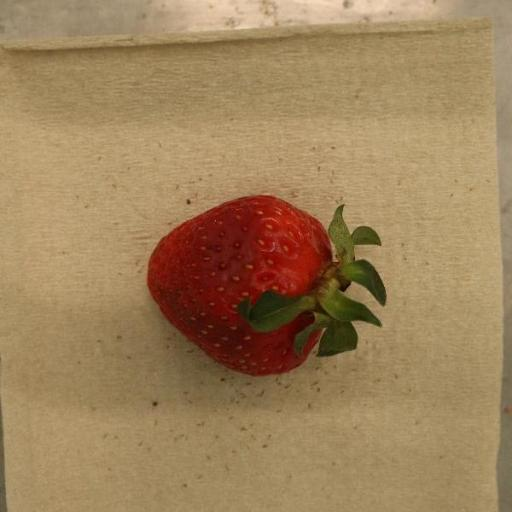Strawberry: (146, 195, 387, 377)
